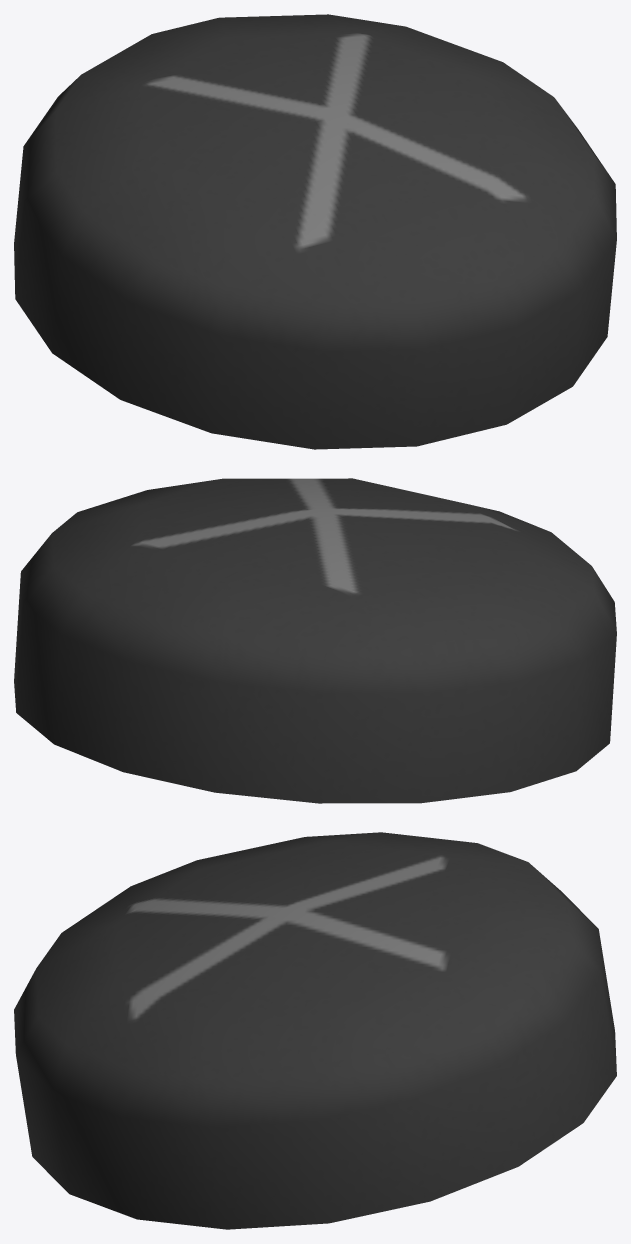
Rendered from oculus_quest_controller_left_buttonX.obj.
3 views of the same model, one above another, from view 1: azimuth 30°, elevation 25°; view 2: azimuth 150°, elevation 25°; view 3: azimuth 270°, elevation 25° (orthographic).
Bounding box in the file's own units: 0.0105 × 0.00445 × 0.0106.
